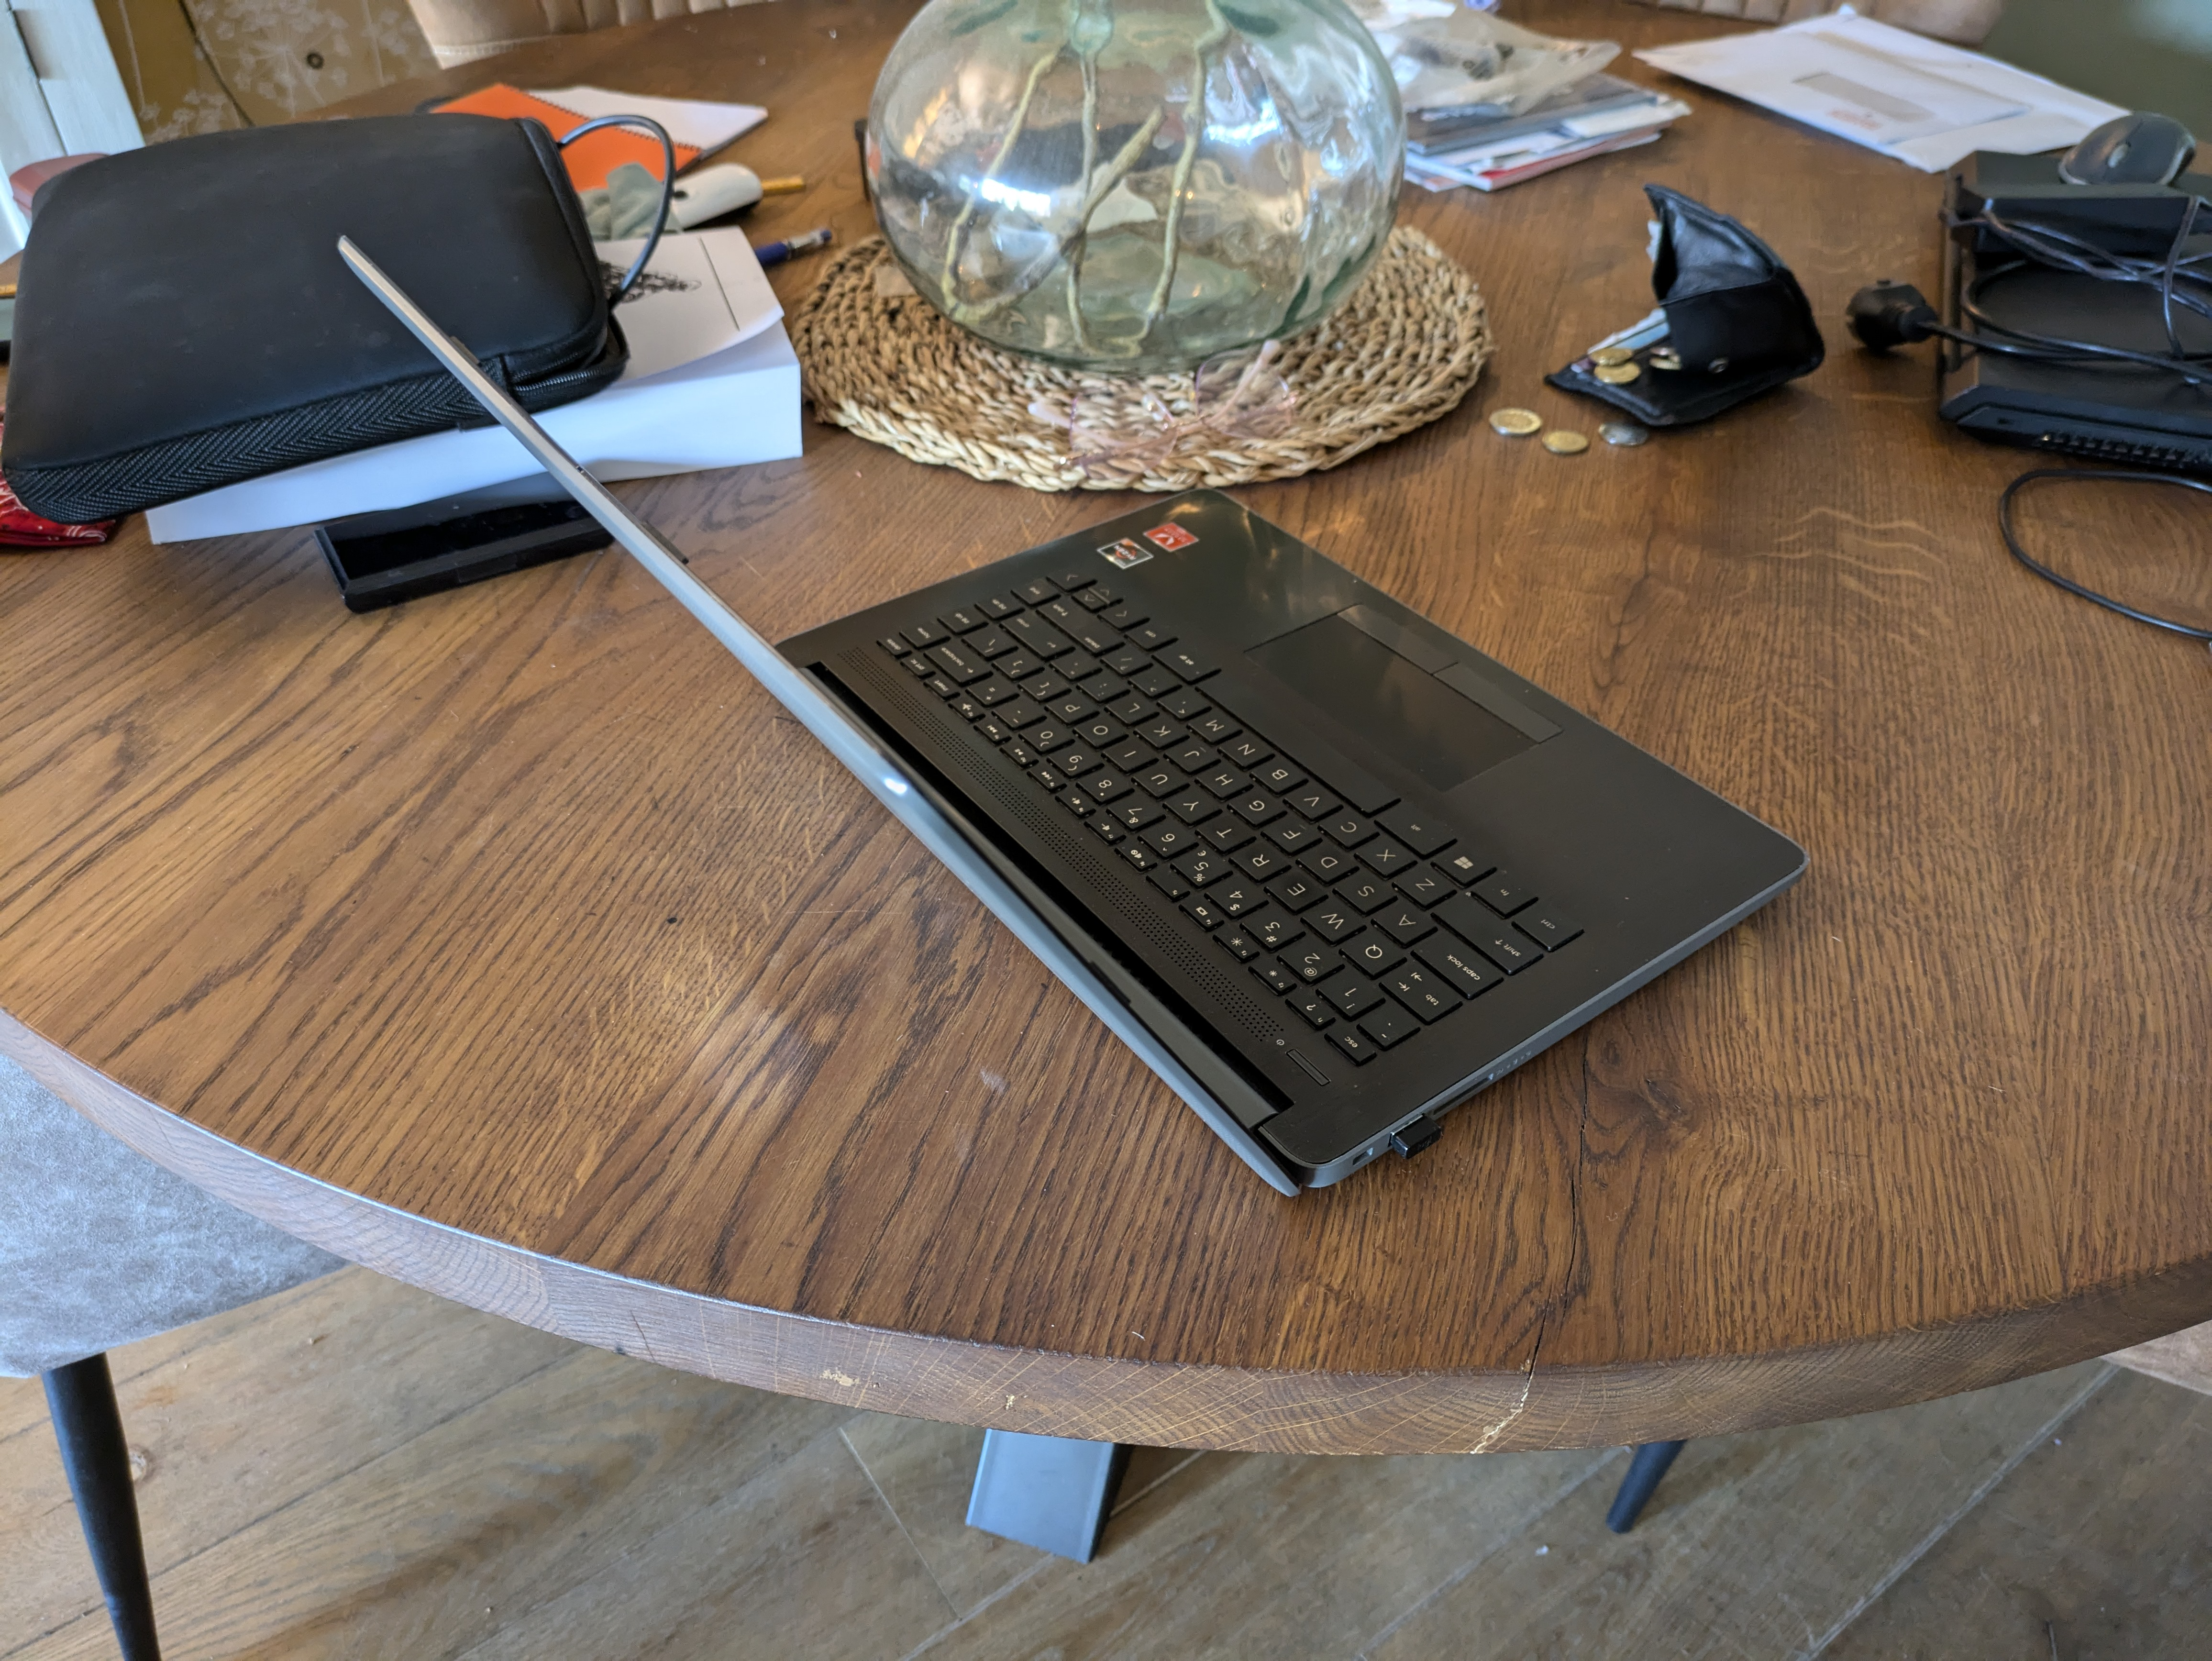laptop: (300, 181, 1839, 1235)
